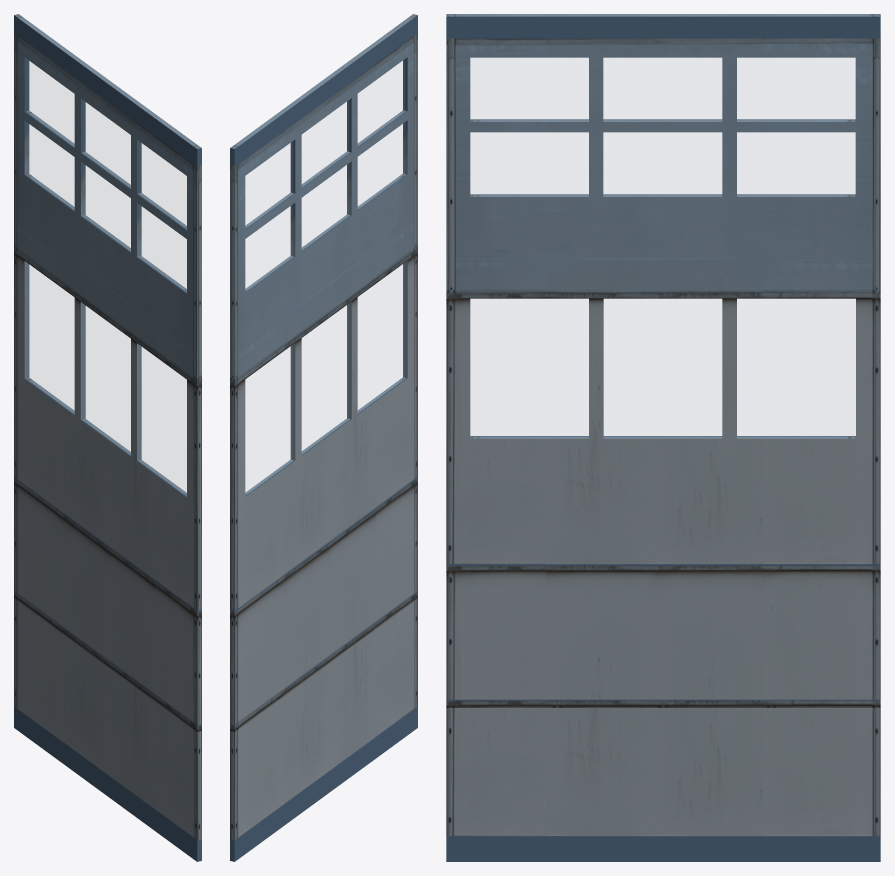
File: HangarBig01_Door.FBX
3 renders of one model, left to right at view 1: azimuth 30°, elevation 25°; view 2: azimuth 150°, elevation 25°; view 3: azimuth 270°, elevation 25°, orthographic. The views are drawn at different scales.
Visible parts, largest first — view 1: HangarBig01_Door, HangarBig01_DoorGlass; view 2: HangarBig01_Door, HangarBig01_DoorGlass; view 3: HangarBig01_Door, HangarBig01_DoorGlass.
Boxes of the visible parts, box(x1,y1,x2,y2) form: HangarBig01_Door: box(14, 14, 201, 861); HangarBig01_DoorGlass: box(28, 61, 186, 493); HangarBig01_Door: box(230, 14, 417, 861); HangarBig01_DoorGlass: box(246, 60, 404, 492); HangarBig01_Door: box(446, 14, 880, 861); HangarBig01_DoorGlass: box(471, 58, 855, 436).
Bounding box in the file's own units: 2.13 × 309 × 144.
